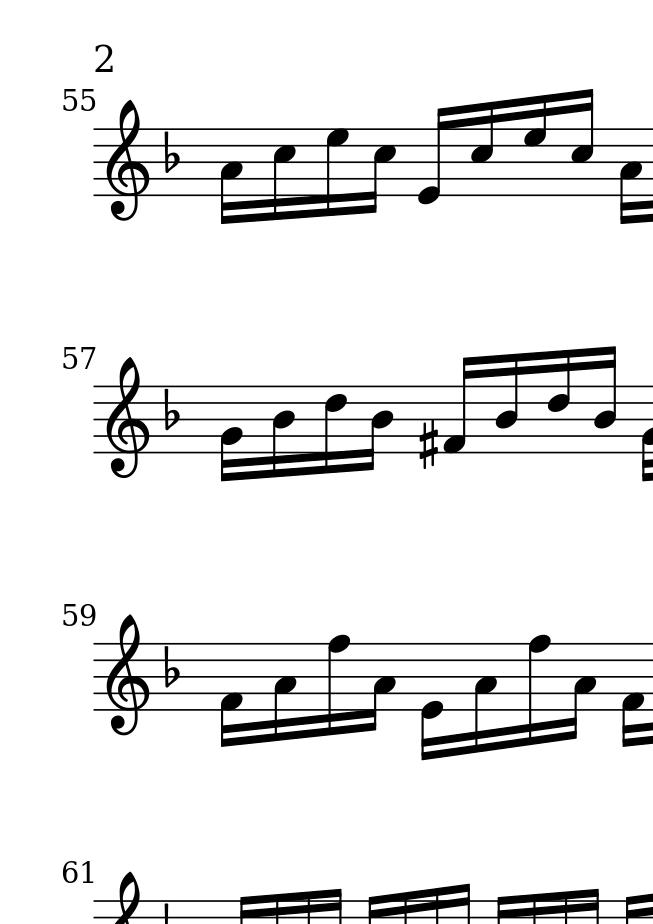1: (79, 858, 95, 886)
16_0: (414, 105, 450, 206), (419, 641, 445, 762)
16_1: (441, 355, 476, 455), (218, 641, 245, 749), (620, 641, 645, 749)
16_2: (218, 383, 243, 483)
16_3: (565, 641, 598, 741), (363, 641, 397, 733), (472, 641, 498, 756), (271, 641, 297, 745), (217, 127, 243, 228), (617, 127, 643, 226)
16_4: (592, 344, 619, 457), (361, 384, 394, 473), (494, 352, 521, 455), (268, 384, 296, 481)
16_5: (362, 127, 397, 216), (570, 86, 596, 198), (469, 99, 498, 197), (270, 127, 296, 223)
16_6: (546, 347, 574, 457), (321, 382, 348, 477)
16_7: (522, 92, 550, 199), (322, 125, 349, 220)
16_8: (525, 634, 550, 749), (324, 634, 350, 739)
2: (93, 41, 115, 74)
5: (59, 344, 79, 371), (59, 600, 77, 626), (61, 87, 78, 113)
6: (61, 858, 79, 885)
7: (79, 345, 97, 371)
9: (79, 601, 97, 628)
Flat: (161, 128, 180, 174), (162, 643, 181, 689), (161, 386, 180, 431)
Gclef: (103, 613, 149, 738), (103, 356, 149, 480), (103, 99, 149, 222)
Sharp: (417, 419, 438, 471)
